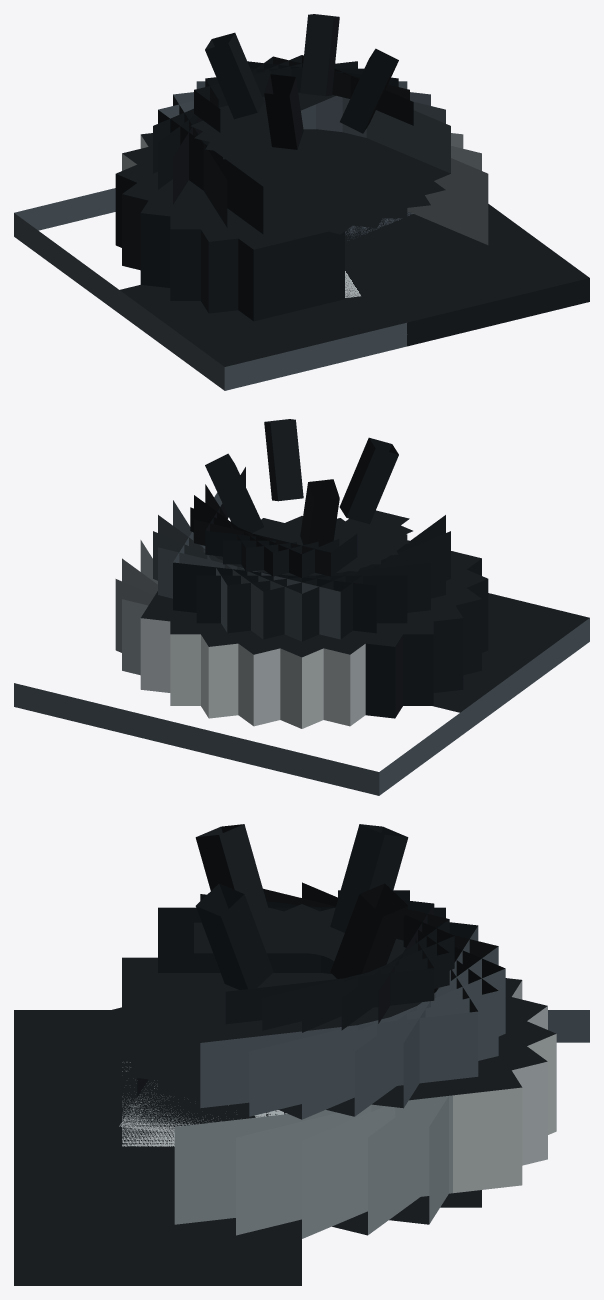
File: defoliator.obj
3 renders of one model, top to bottom at view 1: azimuth 30°, elevation 25°; view 2: azimuth 150°, elevation 25°; view 3: azimuth 270°, elevation 25°, orthographic. The views are drawn at different scales.
Visible parts, largest first — view 1: ModelDefoliator_Shape1_instance_0, ModelDefoliator_Shape2b_instance_0, ModelDefoliator_Shape3c_instance_0, ModelDefoliator_Shape2a_instance_0, ModelDefoliator_Shape2_instance_0, ModelDefoliator_Shape2d_instance_0, ModelDefoliator_Shape3b_instance_0, ModelDefoliator_Shape3_instance_0, ModelDefoliator_Shape2c_instance_0, ModelDefoliator_Shape3a_instance_0, ModelDefoliator_Shape6c_instance_225, ModelDefoliator_Shape4_instance_0 (+11 smaller); view 2: ModelDefoliator_Shape1_instance_0, ModelDefoliator_Shape2_instance_0, ModelDefoliator_Shape2c_instance_0, ModelDefoliator_Shape2d_instance_0, ModelDefoliator_Shape2b_instance_0, ModelDefoliator_Shape2e_instance_0, ModelDefoliator_Shape2a_instance_0, ModelDefoliator_Shape3b_instance_0, ModelDefoliator_Shape3a_instance_0, ModelDefoliator_Shape3_instance_0, ModelDefoliator_Shape3c_instance_0, ModelDefoliator_Shape3d_instance_0 (+11 smaller); view 3: ModelDefoliator_Shape1_instance_0, ModelDefoliator_Shape2_instance_0, ModelDefoliator_Shape3_instance_0, ModelDefoliator_Shape2e_instance_0, ModelDefoliator_Shape2d_instance_0, ModelDefoliator_Shape2c_instance_0, ModelDefoliator_Shape2a_instance_0, ModelDefoliator_Shape2b_instance_0, ModelDefoliator_Shape3d_instance_0, ModelDefoliator_Shape3b_instance_0, ModelDefoliator_Shape3e_instance_0, ModelDefoliator_Shape3c_instance_0 (+11 smaller).
Part boxes in pixels (x1,y1,x2,y2): ModelDefoliator_Shape1_instance_0: (14, 188, 589, 390); ModelDefoliator_Shape2b_instance_0: (140, 133, 462, 313); ModelDefoliator_Shape3c_instance_0: (196, 81, 407, 218); ModelDefoliator_Shape2a_instance_0: (122, 146, 481, 321); ModelDefoliator_Shape2_instance_0: (115, 137, 488, 322); ModelDefoliator_Shape2d_instance_0: (140, 133, 463, 313); ModelDefoliator_Shape3b_instance_0: (173, 92, 430, 227); ModelDefoliator_Shape3_instance_0: (153, 108, 450, 236); ModelDefoliator_Shape2c_instance_0: (170, 164, 433, 300); ModelDefoliator_Shape3a_instance_0: (158, 101, 445, 234); ModelDefoliator_Shape6c_instance_225: (205, 32, 264, 119); ModelDefoliator_Shape4_instance_0: (191, 55, 413, 141); ModelDefoliator_Shape1_instance_0: (14, 593, 589, 795); ModelDefoliator_Shape2_instance_0: (140, 591, 416, 718); ModelDefoliator_Shape2c_instance_0: (122, 558, 481, 726); ModelDefoliator_Shape2d_instance_0: (140, 540, 463, 718); ModelDefoliator_Shape2b_instance_0: (115, 564, 488, 728); ModelDefoliator_Shape2e_instance_0: (170, 598, 433, 705); ModelDefoliator_Shape2a_instance_0: (122, 539, 481, 726); ModelDefoliator_Shape3b_instance_0: (153, 516, 450, 641); ModelDefoliator_Shape3a_instance_0: (158, 515, 445, 639); ModelDefoliator_Shape3_instance_0: (173, 492, 404, 633); ModelDefoliator_Shape3c_instance_0: (158, 515, 445, 639); ModelDefoliator_Shape3d_instance_0: (173, 500, 430, 633); ModelDefoliator_Shape1_instance_0: (14, 1010, 589, 1285); ModelDefoliator_Shape2_instance_0: (82, 979, 522, 1224); ModelDefoliator_Shape3_instance_0: (126, 970, 478, 1108); ModelDefoliator_Shape2e_instance_0: (60, 973, 547, 1235); ModelDefoliator_Shape2d_instance_0: (48, 973, 556, 1238); ModelDefoliator_Shape2c_instance_0: (56, 973, 547, 1235); ModelDefoliator_Shape2a_instance_0: (122, 957, 481, 1207); ModelDefoliator_Shape2b_instance_0: (82, 968, 522, 1224); ModelDefoliator_Shape3d_instance_0: (99, 882, 505, 1119); ModelDefoliator_Shape3b_instance_0: (126, 894, 478, 1108); ModelDefoliator_Shape3e_instance_0: (105, 959, 498, 1116); ModelDefoliator_Shape3c_instance_0: (106, 888, 498, 1116).
Size of the model in its own units: 1.03 by 0.5845 by 1.
